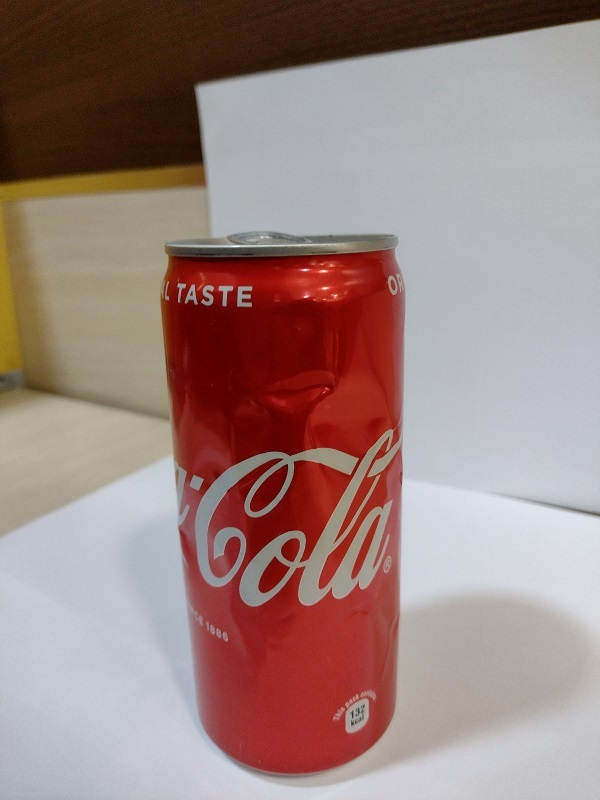can: (143, 217, 415, 777)
